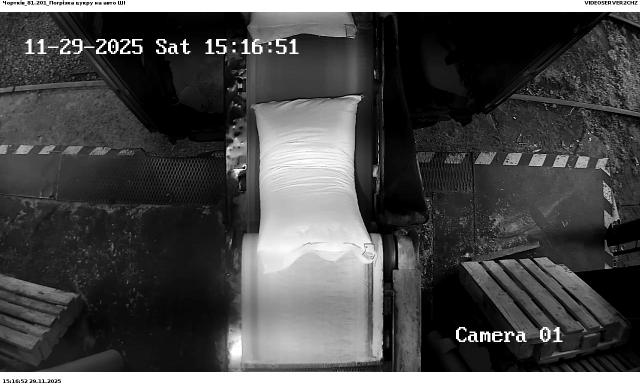bag: (252, 95, 376, 265), (249, 11, 356, 45)
